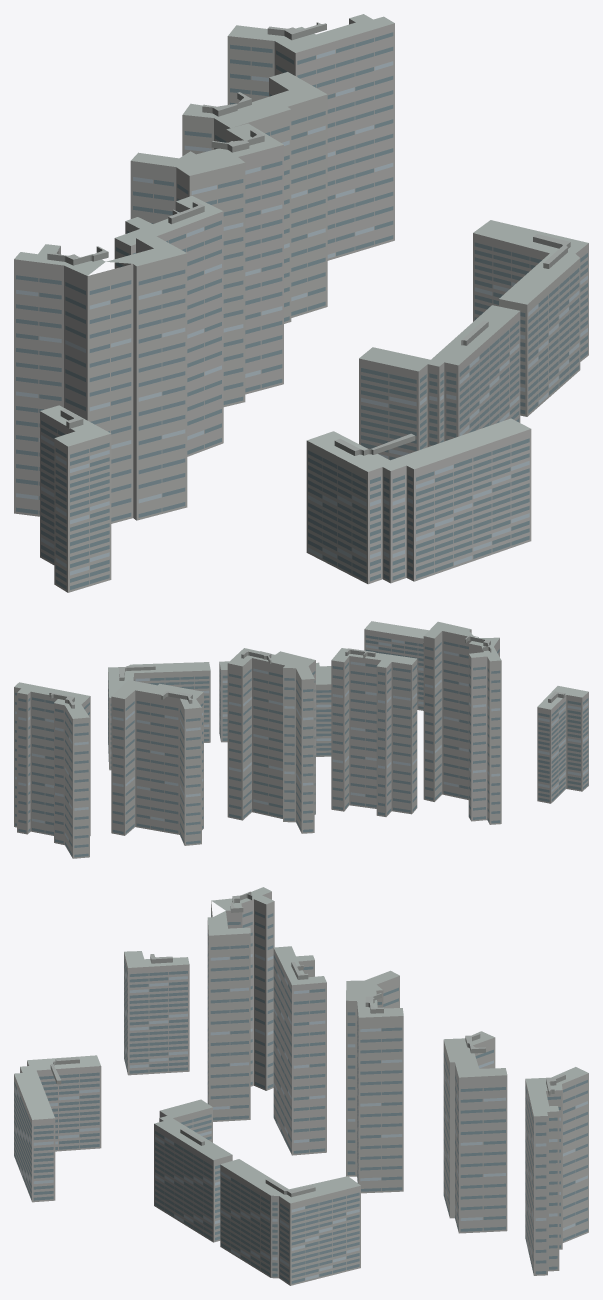
Rendered from apt-a10024254.glb.
3 views of the same model, one above another, from view 1: azimuth 30°, elevation 25°; view 2: azimuth 150°, elevation 25°; view 3: azimuth 270°, elevation 25° (orthographic). The views are drawn at different scales.
Parts seen in each view (by area): view 1: apt-a10024254; view 2: apt-a10024254; view 3: apt-a10024254.
Part boxes in pixels (x1,y1,x2,y2): apt-a10024254: (14,14,588,592); apt-a10024254: (14,621,588,858); apt-a10024254: (14,887,588,1285).
Size of the model in its own units: 271 by 106 by 289.
